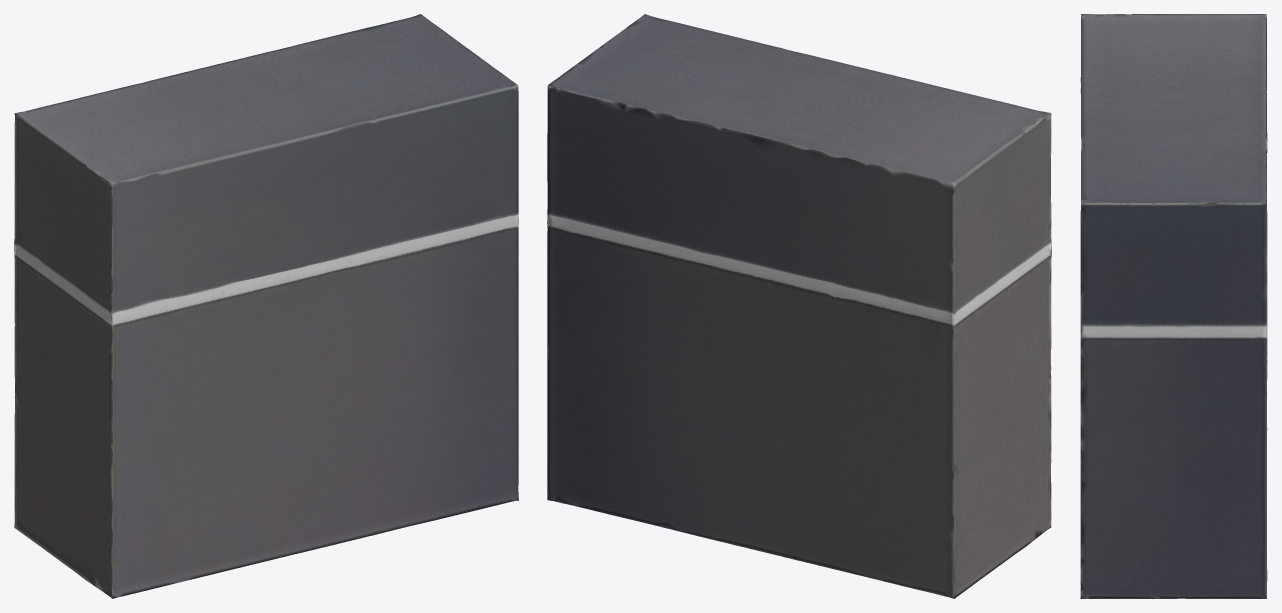
Rendered from P_BasicShelf_h90.fbx.
3 renders of one model, left to right at view 1: azimuth 30°, elevation 25°; view 2: azimuth 150°, elevation 25°; view 3: azimuth 270°, elevation 25°, orthographic. The views are drawn at different scales.
Visible parts, largest first — view 1: surface_7; view 2: surface_7; view 3: surface_7.
Part boxes in pixels (bbox=[...]): surface_7: bbox=[14, 14, 518, 598]; surface_7: bbox=[547, 14, 1051, 598]; surface_7: bbox=[1080, 14, 1267, 598].
Bounding box in the file's own units: 1.03 × 1 × 0.4281.
Materials: 1 (1 with a texture image).
